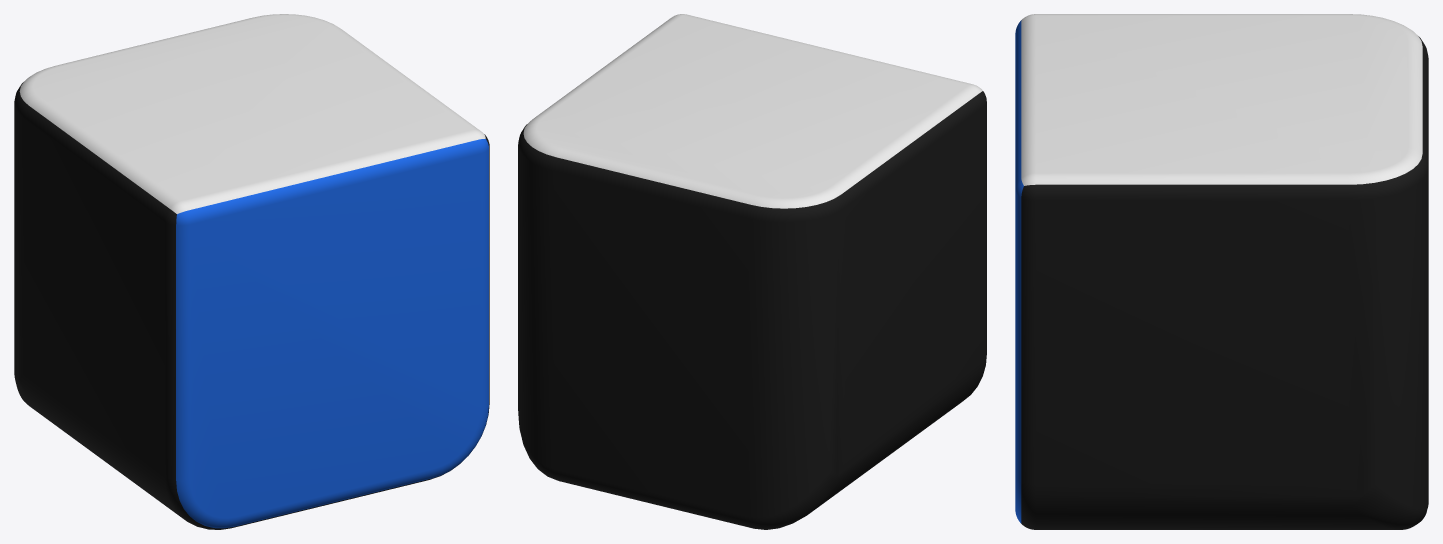
File: wb_egde.glb
3 views of the same model, side by side, from view 1: azimuth 30°, elevation 25°; view 2: azimuth 150°, elevation 25°; view 3: azimuth 270°, elevation 25° (orthographic). The views are drawn at different scales.
Visible parts, largest first — view 1: Cube.006; view 2: Cube.006; view 3: Cube.006.
Boxes of the visible parts, box(x1,y1,x2,y2) form: Cube.006: box(14, 14, 489, 529); Cube.006: box(518, 14, 986, 529); Cube.006: box(1015, 14, 1428, 529).
Size of the model in its own units: 2 by 2 by 2.
